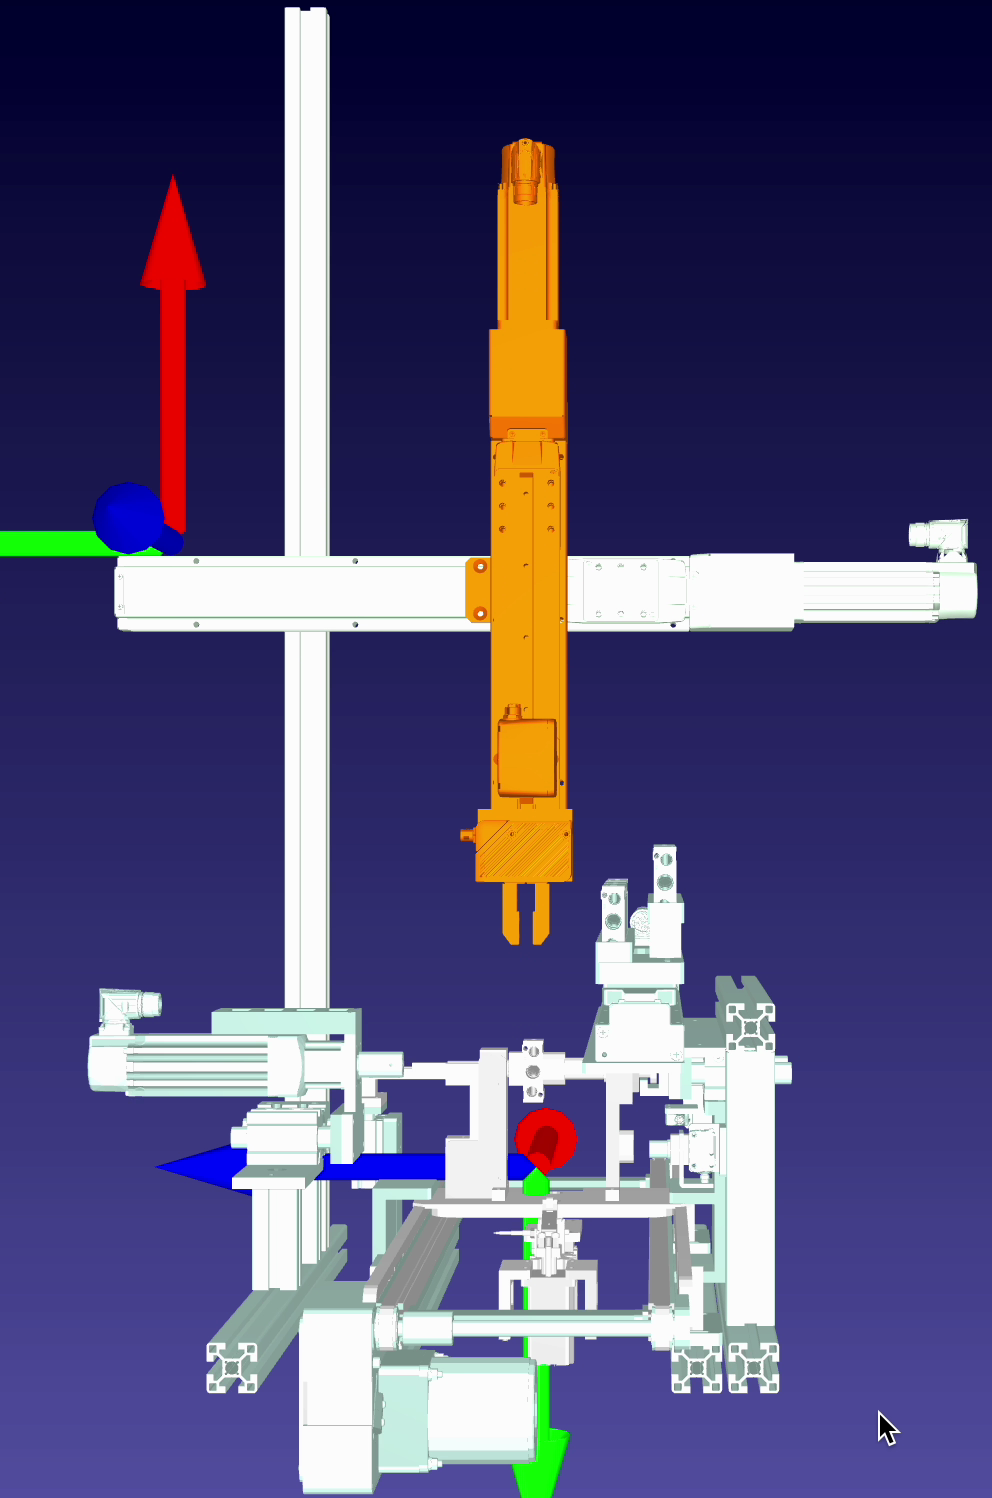Gripper: (454, 800, 591, 949)
